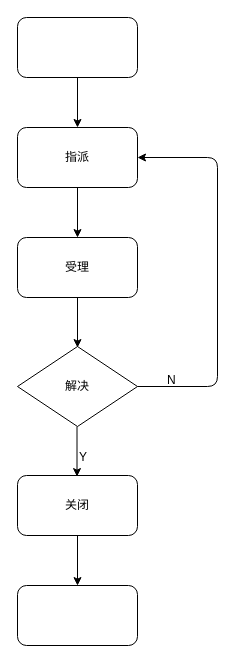
Some shapes in this 243 by 663 pixel diagram are drawn without their labels. The shapes that lost their labels are listed below. From the top down, each one's centre as x and y in pixels, then its label:
At point (77, 47): "创建".
At point (77, 615): "重启".
